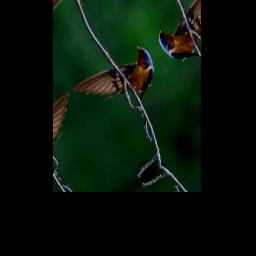Swallow: (71, 34, 167, 138)
